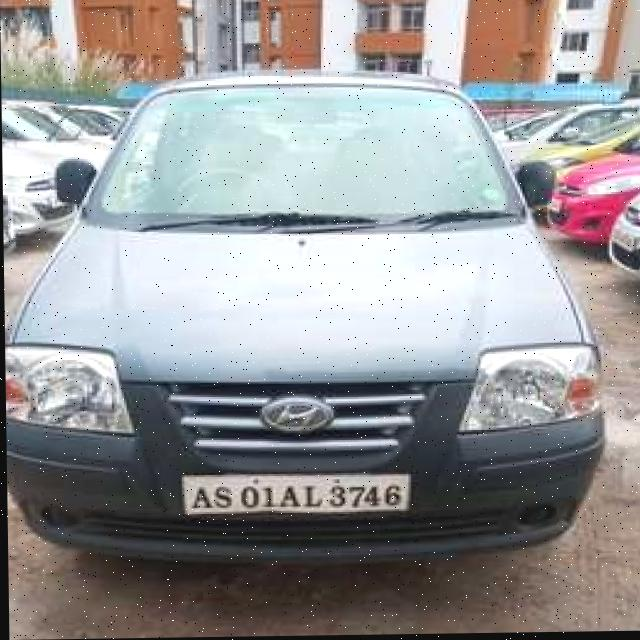plate: (178, 470, 414, 518), (608, 228, 637, 252), (3, 225, 10, 246)
